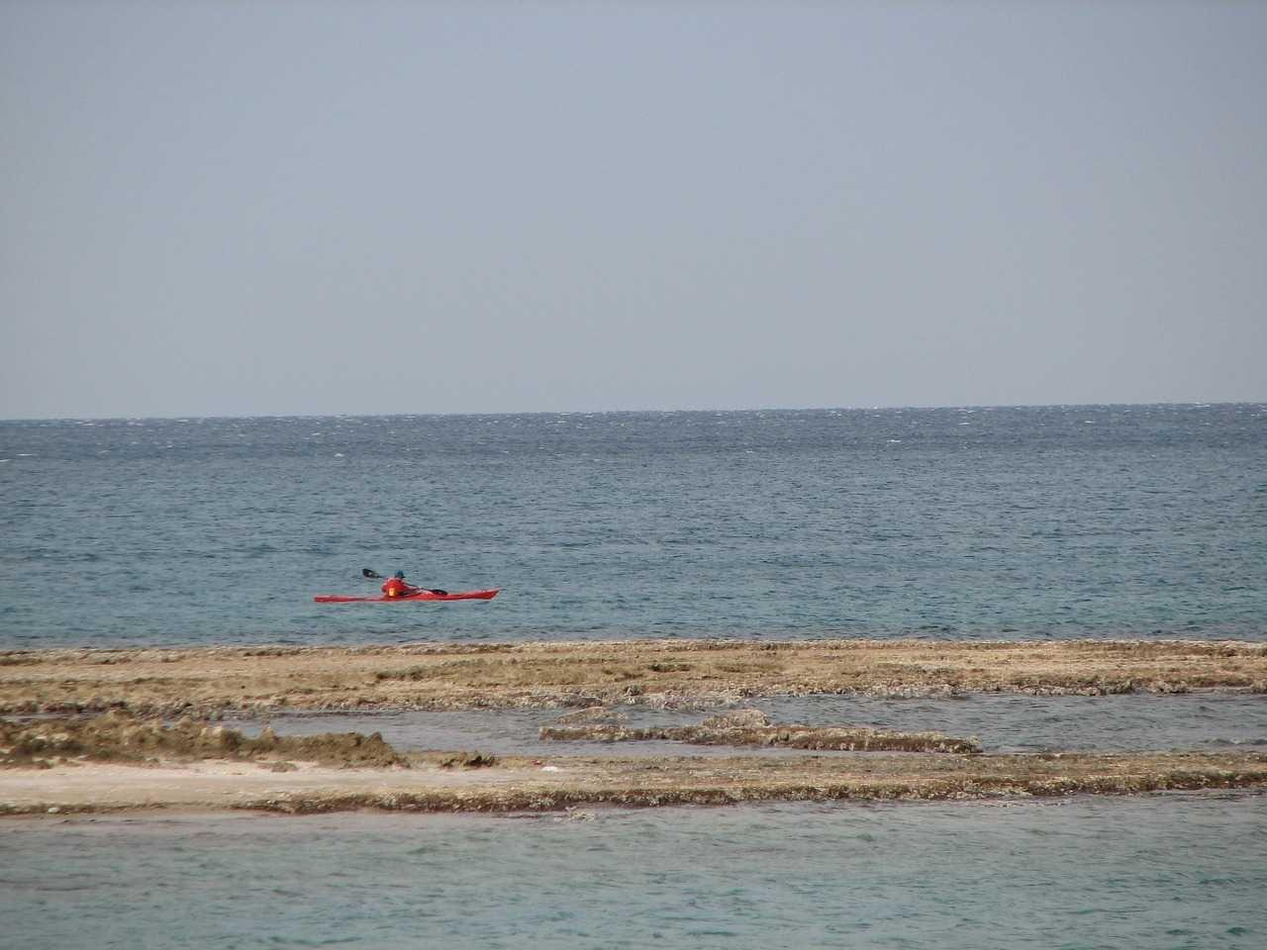kayak: (313, 593, 505, 614)
